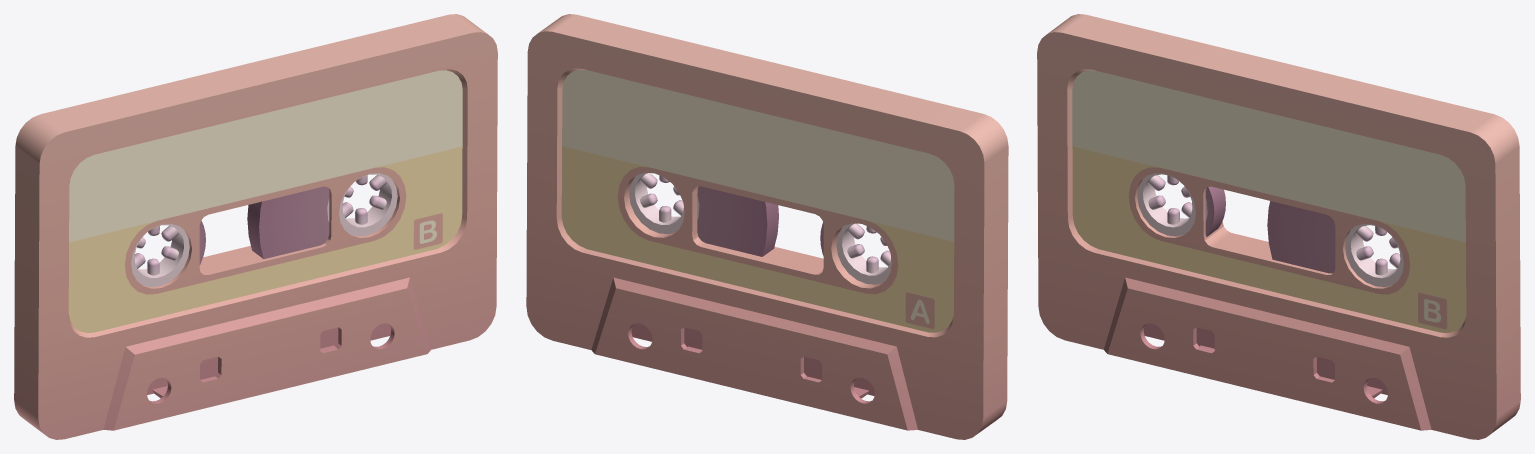
The model's file is CassetteInsertANDFlipAnim.fbx.
The picture shows the model from 3 angles, left to right: view 1: azimuth 30°, elevation 25°; view 2: azimuth 150°, elevation 25°; view 3: azimuth 330°, elevation 25°; orthographic projection.
Parts seen in each view (by area): view 1: Animatoin00:Cassette, Animatoin00:Cassette_Tape_1_Left, Animatoin00:Cassette_Tape_2_Right; view 2: Animatoin00:Cassette, Animatoin00:Cassette_Tape_1_Left, Animatoin00:Cassette_Tape_2_Right; view 3: Animatoin00:Cassette, Animatoin00:Cassette_Tape_1_Left, Animatoin00:Cassette_Tape_2_Right.
Boxes of the visible parts, x1,y1,x2,y2 form: Animatoin00:Cassette: [14, 14, 497, 439]; Animatoin00:Cassette_Tape_1_Left: [247, 173, 397, 258]; Animatoin00:Cassette_Tape_2_Right: [131, 220, 205, 286]; Animatoin00:Cassette: [526, 14, 1008, 439]; Animatoin00:Cassette_Tape_1_Left: [629, 172, 778, 256]; Animatoin00:Cassette_Tape_2_Right: [820, 223, 891, 284]; Animatoin00:Cassette: [1037, 14, 1520, 439]; Animatoin00:Cassette_Tape_1_Left: [1267, 201, 1403, 286]; Animatoin00:Cassette_Tape_2_Right: [1137, 173, 1225, 236].
Size of the model in its own units: 10.02 by 6.45 by 1.18.
